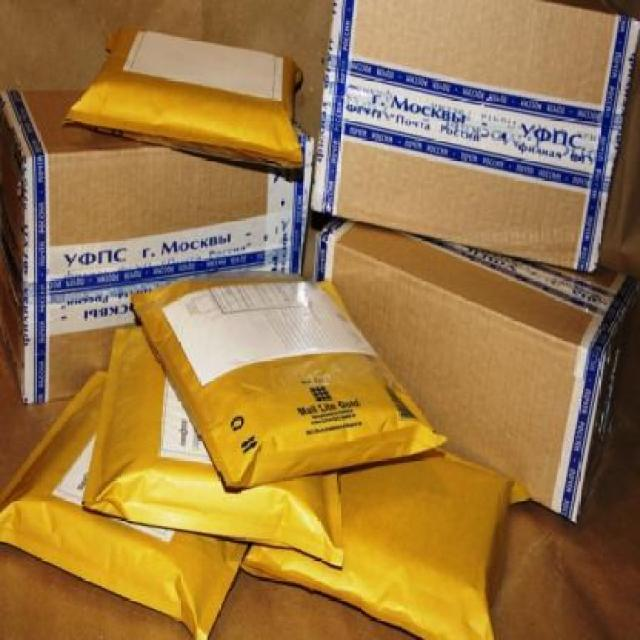box: (0, 76, 327, 402), (312, 210, 640, 528), (304, 0, 640, 274)
